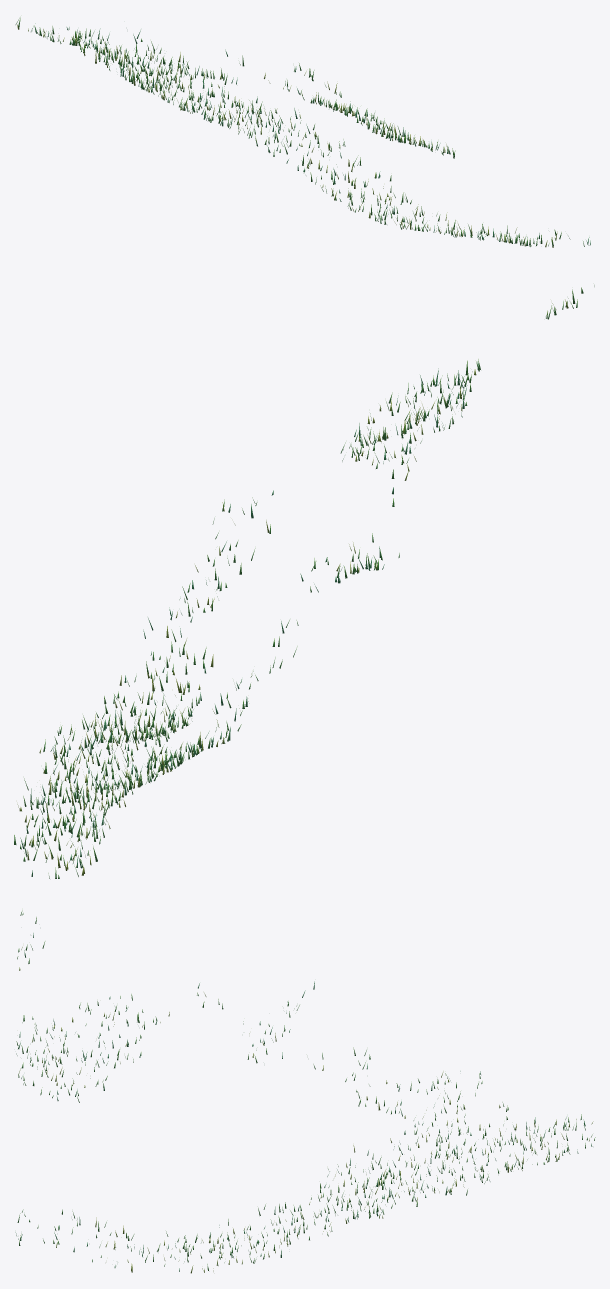
3 renders of one model, top to bottom at view 1: azimuth 30°, elevation 25°; view 2: azimuth 150°, elevation 25°; view 3: azimuth 270°, elevation 25°, orthographic. The views are drawn at different scales.
Visible parts, largest first — view 1: gc_60; view 2: gc_60; view 3: gc_60.
Boxes of the visible parts, x1,y1,x2,y2 form: gc_60: (15,17,590,247); gc_60: (14,285,594,878); gc_60: (15,910,595,1273).
Size of the model in its own units: 8.99 by 8.84 by 18.1.
Materials: 1 (1 with a texture image).
